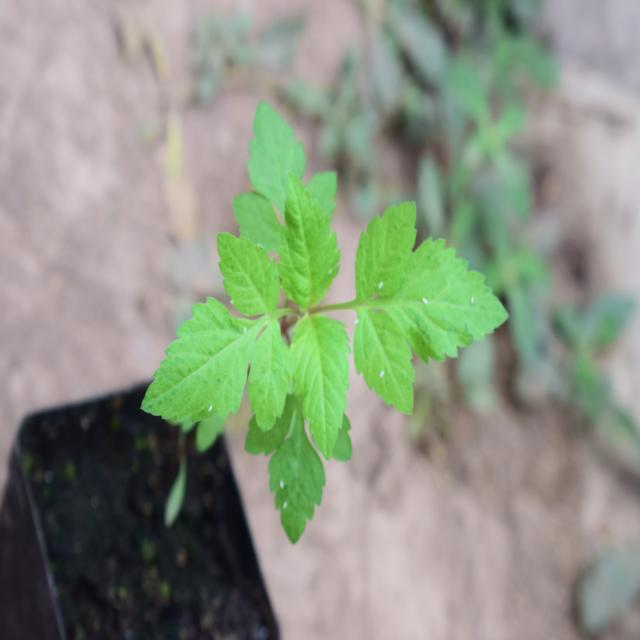Bidens pilosa: (137, 94, 512, 525)
